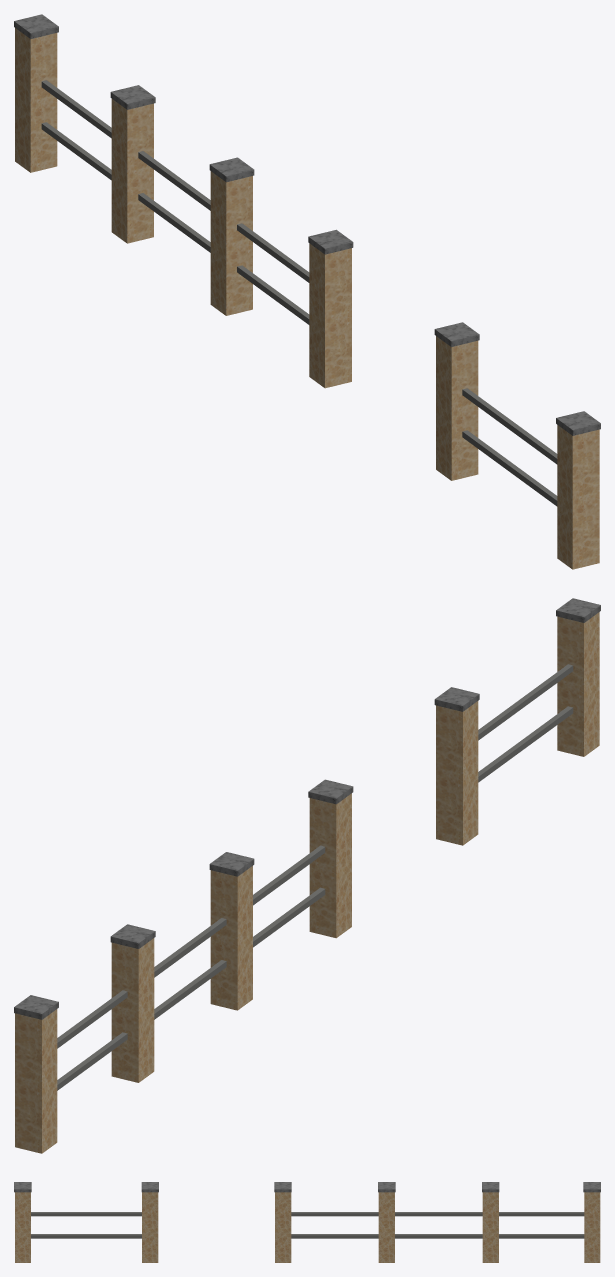
File: Subway04_InterBorder.FBX
3 renders of one model, top to bottom at view 1: azimuth 30°, elevation 25°; view 2: azimuth 150°, elevation 25°; view 3: azimuth 270°, elevation 25°, orthographic. The views are drawn at different scales.
Visible parts, largest first — view 1: Subway04_InterBorder01, Subway04_InterBorder04, Subway04_InterBorder03; view 2: Subway04_InterBorder01, Subway04_InterBorder04, Subway04_InterBorder03; view 3: Subway04_InterBorder01, Subway04_InterBorder04, Subway04_InterBorder03.
Boxes of the visible parts, x1=… form: Subway04_InterBorder01: x1=15, y1=28, x2=599, y2=569; Subway04_InterBorder04: x1=41, y1=80, x2=557, y2=506; Subway04_InterBorder03: x1=14, y1=14, x2=600, y2=435; Subway04_InterBorder01: x1=15, y1=612, x2=599, y2=1153; Subway04_InterBorder04: x1=57, y1=664, x2=573, y2=1090; Subway04_InterBorder03: x1=14, y1=598, x2=600, y2=1019; Subway04_InterBorder01: x1=15, y1=1192, x2=600, y2=1262; Subway04_InterBorder04: x1=31, y1=1212, x2=584, y2=1238; Subway04_InterBorder03: x1=14, y1=1182, x2=600, y2=1192.
Bounding box in the file's own units: 283 × 1348 × 9733.
